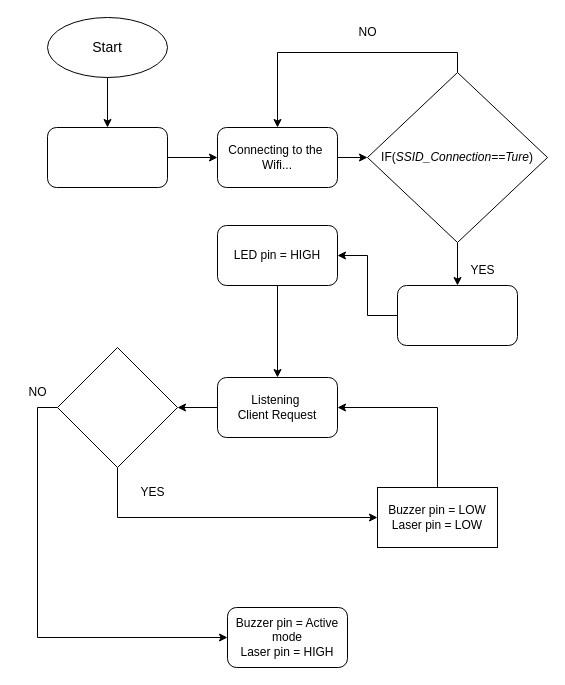
The diagram is 565 pixels wide and 685 high, and some of its shapes have lost their labels. The shapes that lost their labels are listed below. From the top down, each one's box as (x1, y1, x2, y2) in pixels, then its label:
(46, 126, 168, 188): Searching for the "SSID"
(396, 284, 518, 346): Initialize WiFiServer port(80)
(56, 346, 178, 468): IF( request==OFF )
